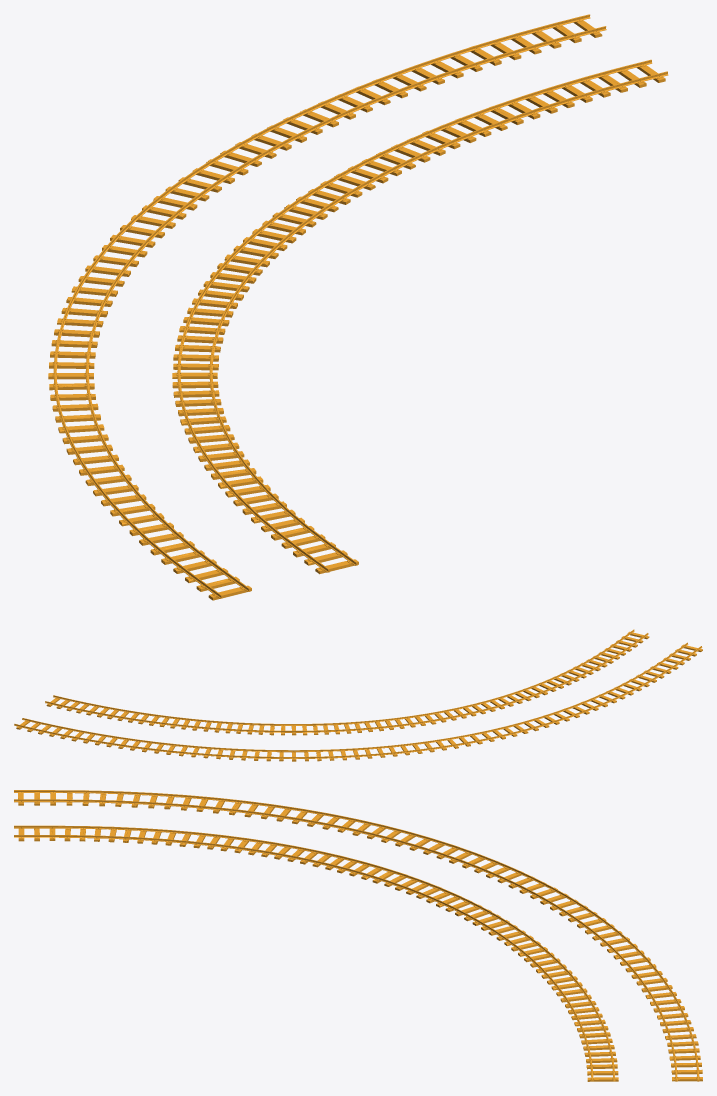
Rendered from SM_Train_Rail_Turn_Double_Old.fbx.
3 views of the same model, one above another, from view 1: azimuth 30°, elevation 25°; view 2: azimuth 150°, elevation 25°; view 3: azimuth 270°, elevation 25° (orthographic). The views are drawn at different scales.
Visible parts, largest first — view 1: SM_Train_Rail_Turn_Double_Old; view 2: SM_Train_Rail_Turn_Double_Old; view 3: SM_Train_Rail_Turn_Double_Old.
Boxes of the visible parts, bbox=[...] form: SM_Train_Rail_Turn_Double_Old: bbox=[48, 14, 668, 600]; SM_Train_Rail_Turn_Double_Old: bbox=[14, 629, 702, 761]; SM_Train_Rail_Turn_Double_Old: bbox=[14, 790, 702, 1081].
Size of the model in its own units: 49.11 by 0.3232 by 49.11.
